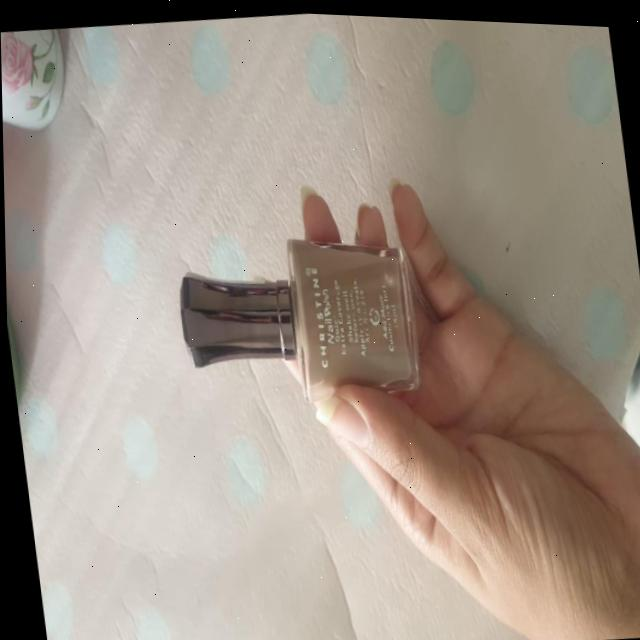nail polish: (153, 191, 442, 425)
